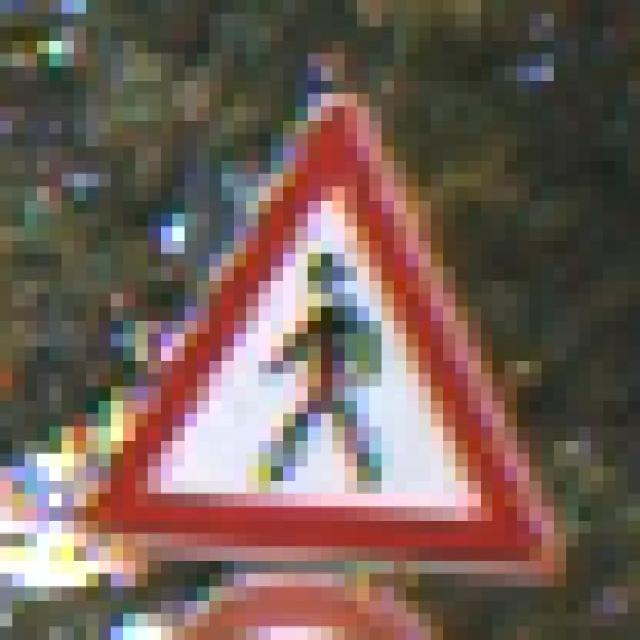Pedestrian Crossing: (74, 93, 615, 601)
